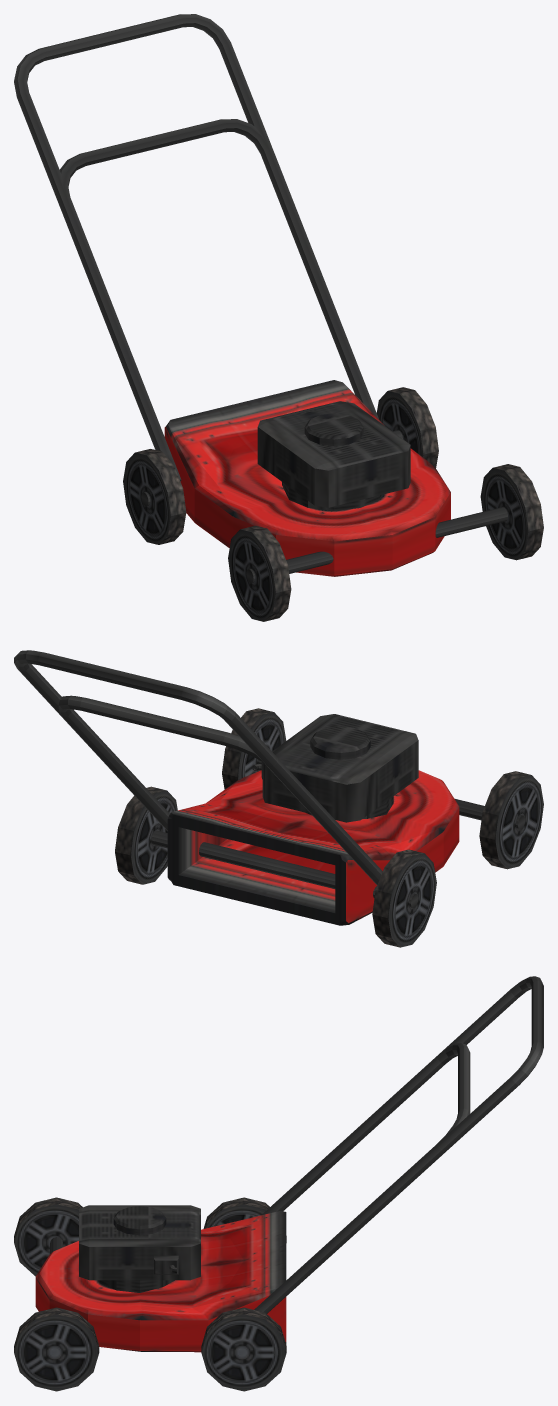
File: lawnmower1.fbx
The picture shows the model from 3 angles, top to bottom: view 1: azimuth 30°, elevation 25°; view 2: azimuth 150°, elevation 25°; view 3: azimuth 270°, elevation 25°; orthographic projection. The views are drawn at different scales.
Parts seen in each view (by area): view 1: Body, Handle, Engine, RightRearWheel, RightFrontWheel, LeftFrontWheel, LeftRearWheel, FrontAxle; view 2: Body, Handle, Engine, RightRearWheel, RightFrontWheel, LeftRearWheel, RearAxle, LeftFrontWheel, FrontAxle; view 3: Body, Handle, Engine, LeftRearWheel, LeftFrontWheel, RightFrontWheel, RightRearWheel.
Part boxes in pixels (<box>): Body: <box>164,380,450,576</box>; Handle: <box>14,14,378,481</box>; Engine: <box>257,401,410,510</box>; RightRearWheel: <box>123,449,186,544</box>; RightFrontWheel: <box>228,525,291,621</box>; LeftFrontWheel: <box>480,464,543,560</box>; LeftRearWheel: <box>376,387,438,467</box>; FrontAxle: <box>246,507,507,582</box>; Body: <box>167,770,459,925</box>; Handle: <box>14,650,382,885</box>; Engine: <box>252,714,418,822</box>; RightRearWheel: <box>372,849,436,947</box>; RightFrontWheel: <box>479,771,543,869</box>; LeftRearWheel: <box>115,786,177,884</box>; RearAxle: <box>151,830,418,907</box>; LeftFrontWheel: <box>222,708,286,789</box>; FrontAxle: <box>258,760,525,829</box>; Body: <box>35,1211,286,1352</box>; Handle: <box>254,976,543,1313</box>; Engine: <box>79,1205,200,1292</box>; LeftRearWheel: <box>201,1307,286,1391</box>; LeftFrontWheel: <box>14,1307,99,1391</box>; RightFrontWheel: <box>14,1197,82,1276</box>; RightRearWheel: <box>203,1197,286,1242</box>.
Bounding box in the file's own units: 267 × 339 × 509.
1 material, 1 textured.
